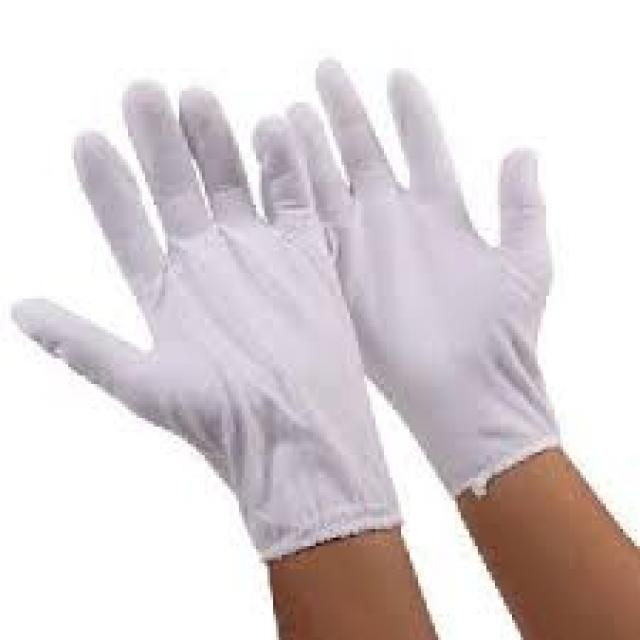Clothes -Biodegradable-: (9, 41, 565, 560)
